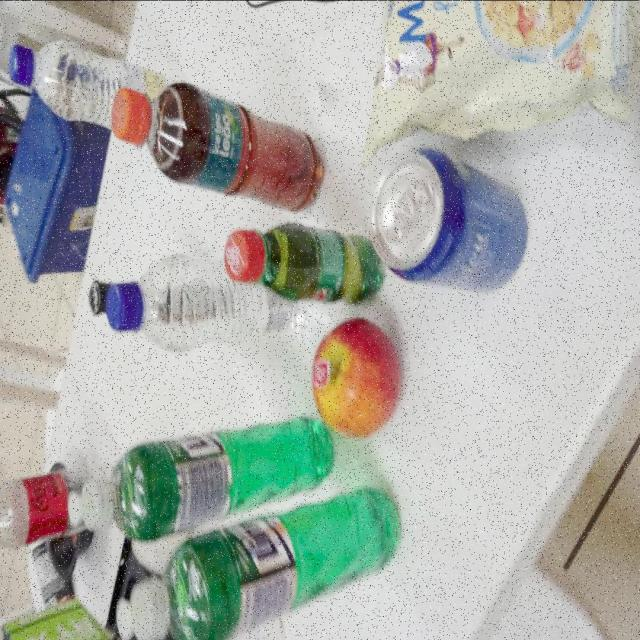Apple: (312, 317, 406, 439)
Cleaner: (116, 488, 404, 640), (68, 417, 334, 541)
CornFlakes: (364, 0, 640, 160)
EnglishSauce: (89, 280, 112, 314)
Guarana: (224, 221, 388, 302)
IceTea: (110, 81, 326, 212)
Tonic: (370, 146, 530, 294)
Water: (106, 254, 298, 348), (10, 39, 168, 130)
